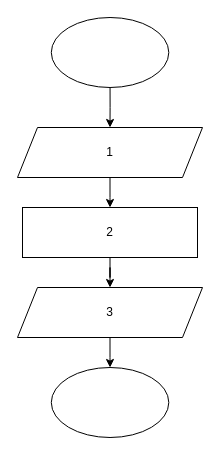
Image size: 220x455. Some labels were removed from this diagram. Each missing label, with the box of its shape:
END: (50, 366, 169, 438)
START: (50, 16, 169, 88)
